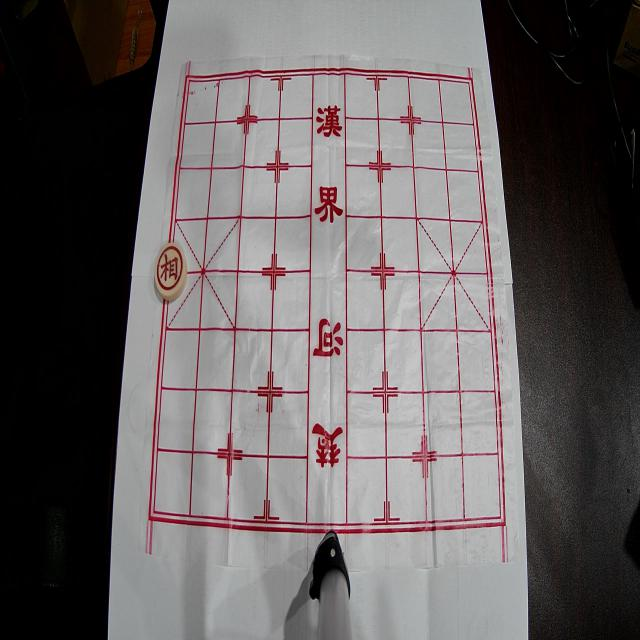red-elephant: (154, 242, 188, 301)
